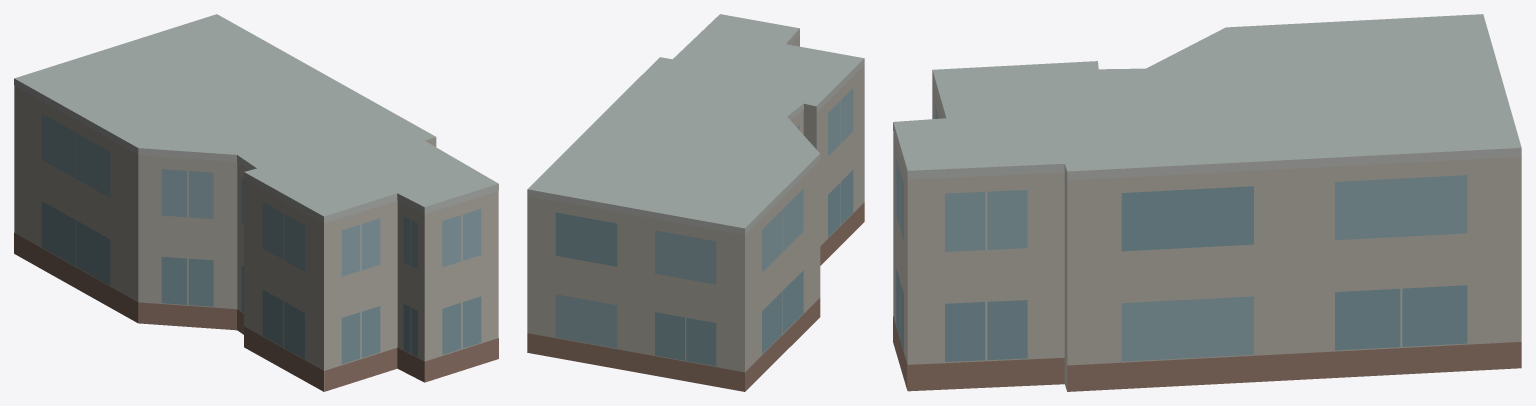
File: survey-upis-32581195.glb
3 renders of one model, left to right at view 1: azimuth 30°, elevation 25°; view 2: azimuth 150°, elevation 25°; view 3: azimuth 270°, elevation 25°, orthographic. The views are drawn at different scales.
Visible parts, largest first — view 1: survey-upis-32581195.tmp; view 2: survey-upis-32581195.tmp; view 3: survey-upis-32581195.tmp.
Part boxes in pixels (left/top/right/bottom): survey-upis-32581195.tmp: left=14, top=14, right=498, bottom=391; survey-upis-32581195.tmp: left=527, top=14, right=864, bottom=391; survey-upis-32581195.tmp: left=893, top=14, right=1521, bottom=391.
Bounding box in the file's own units: 9.36 × 6.1 × 15.78.
